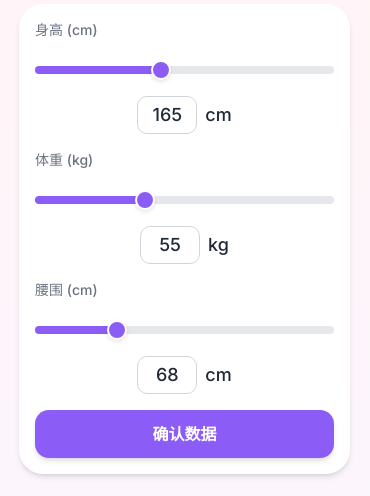
AuxiliaryInput › updates waist slider value on change
Set the slider below "腰围 (cm)" to "72" at point(132, 330), box 35,326 -> 334,334
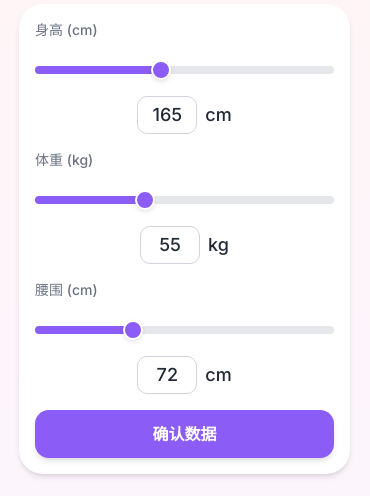
Now the button "72" is shown, box 137,356 -> 197,394
